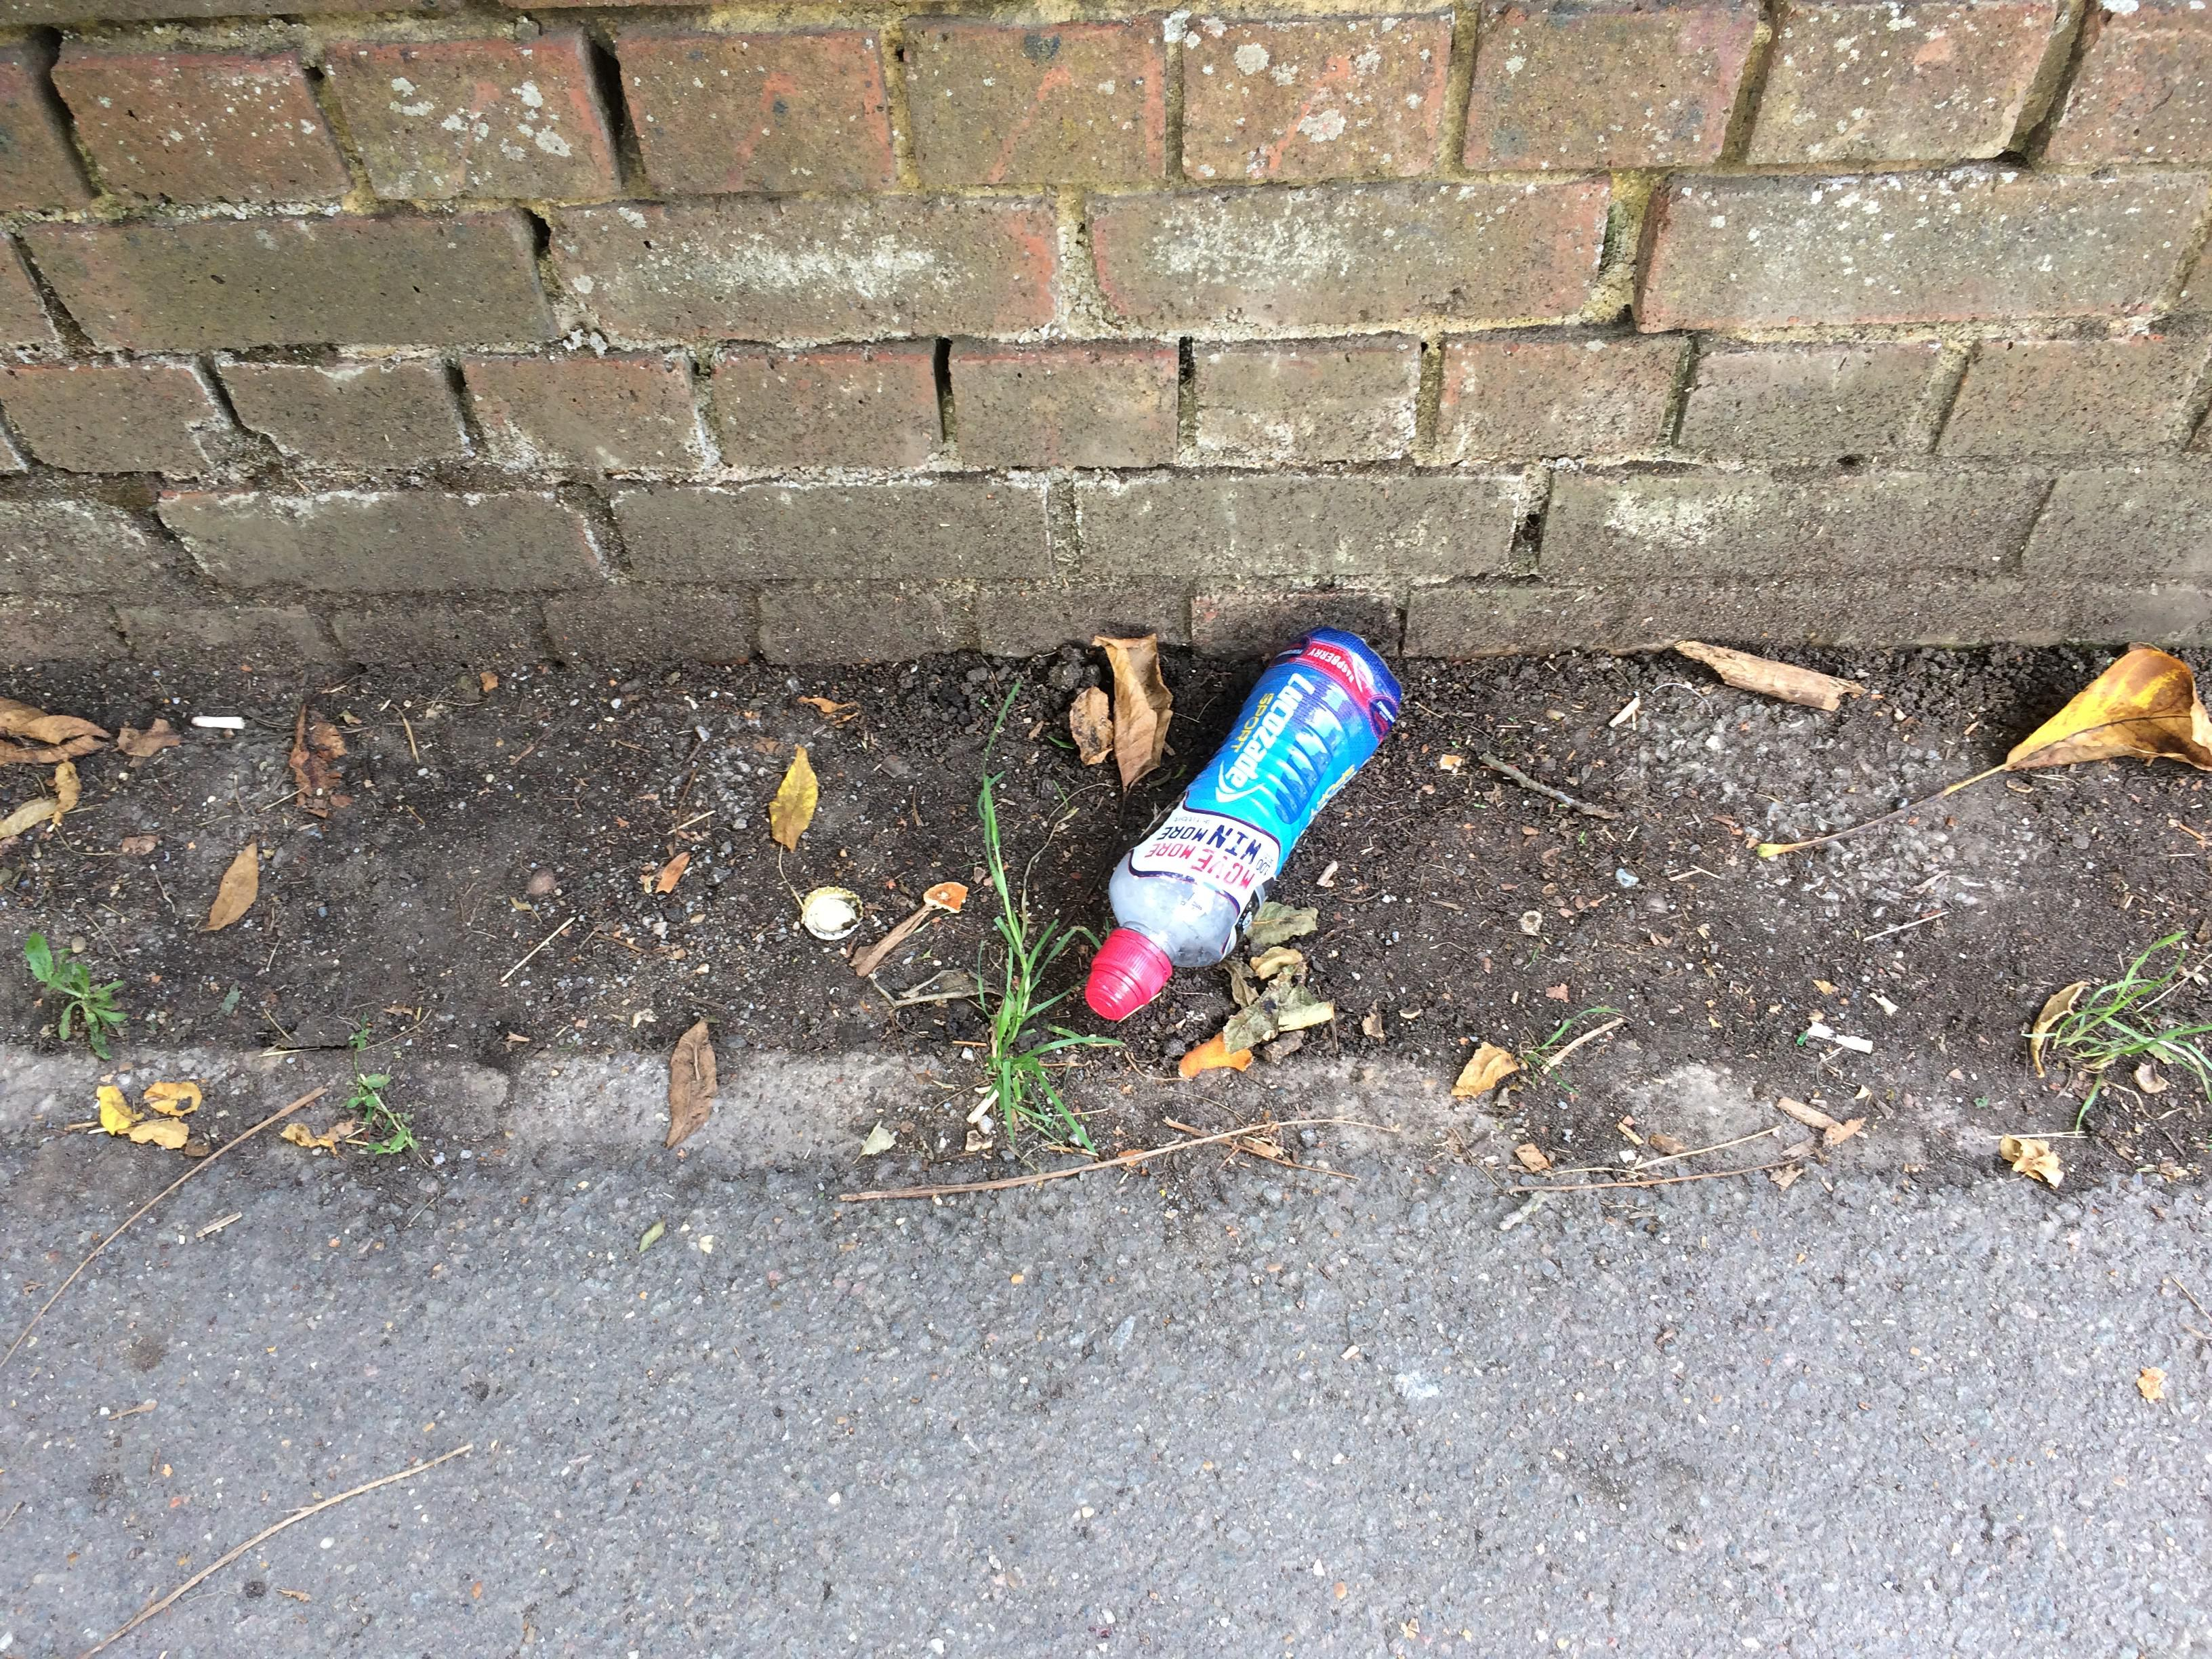Trash: (1066, 626, 1409, 1025)
